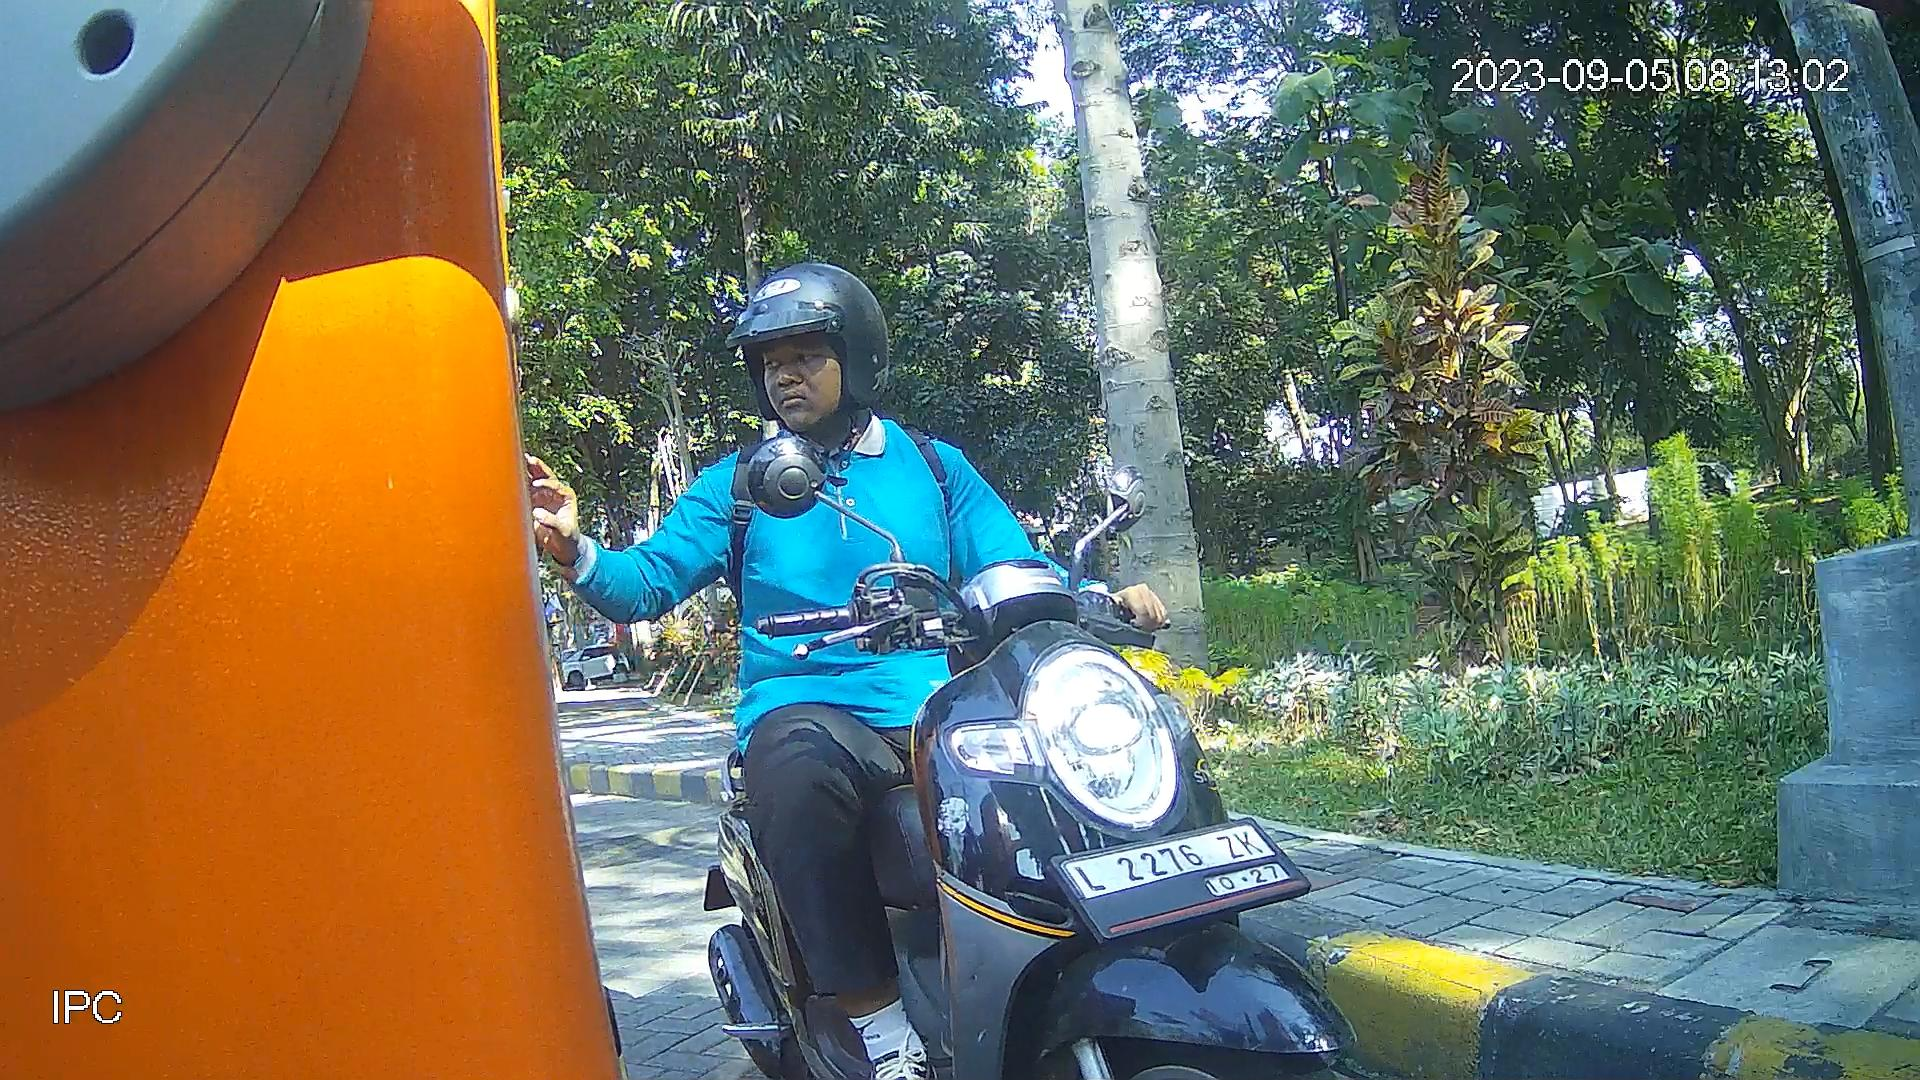plat: (1043, 815, 1319, 944)
